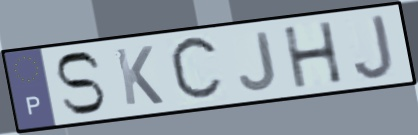C: (166, 32, 227, 107)
H: (280, 18, 347, 91)
J: (351, 12, 397, 82), (236, 28, 280, 93)
K: (111, 43, 167, 108)
S: (52, 50, 108, 118)
